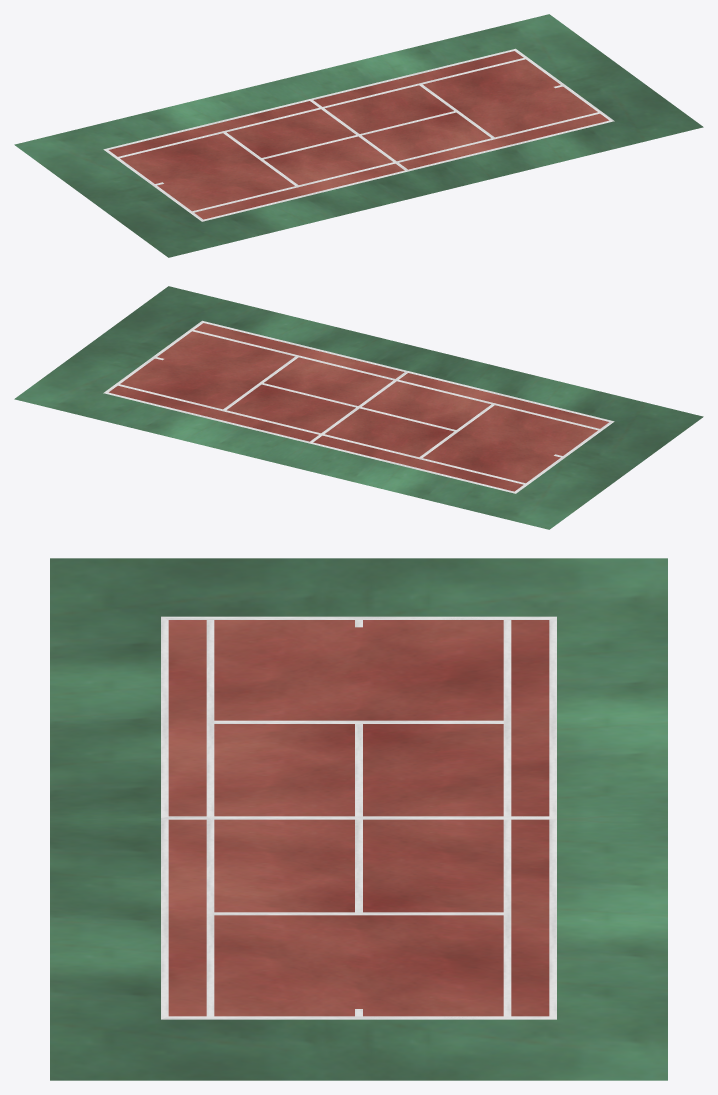
Rendered from Tennis field.fbx.
3 views of the same model, one above another, from view 1: azimuth 30°, elevation 25°; view 2: azimuth 150°, elevation 25°; view 3: azimuth 270°, elevation 25° (orthographic). The views are drawn at different scales.
Parts seen in each view (by area): view 1: Field; view 2: Field; view 3: Field.
Boxes of the visible parts, x1,y1,x2,y2 form: Field: [14, 14, 703, 257]; Field: [14, 286, 703, 529]; Field: [50, 558, 667, 1080].
Bounding box in the file's own units: 800 × 1 × 400.
